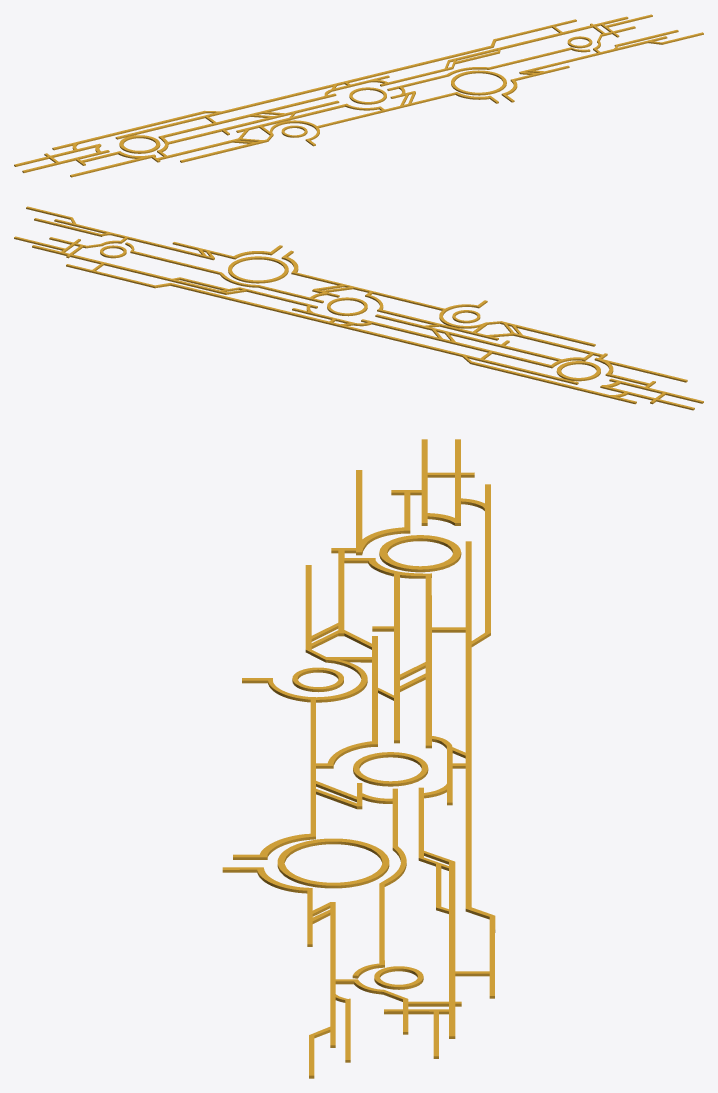
Rendered from DekorBigAlll5.fbx.
The picture shows the model from 3 angles, top to bottom: view 1: azimuth 30°, elevation 25°; view 2: azimuth 150°, elevation 25°; view 3: azimuth 270°, elevation 25°; orthographic projection. The views are drawn at different scales.
Parts seen in each view (by area): view 1: Dekor1, Dekor2, Dekor4, Dekor5, Dekor3; view 2: Dekor1, Dekor2, Dekor4, Dekor5, Dekor3; view 3: Dekor2, Dekor1, Dekor4, Dekor3, Dekor5.
Part boxes in pixels (box(x1,y1,x2,y2)): Dekor1: box(14, 114, 224, 177); Dekor2: box(171, 90, 340, 152); Dekor4: box(402, 31, 569, 103); Dekor5: box(523, 14, 703, 65); Dekor3: box(305, 67, 442, 122); Dekor1: box(484, 333, 703, 410); Dekor2: box(370, 300, 558, 370); Dekor4: box(117, 242, 309, 309); Dekor5: box(14, 206, 176, 278); Dekor3: box(266, 276, 420, 334); Dekor2: box(242, 589, 490, 727); Dekor1: box(305, 439, 490, 620); Dekor4: box(222, 810, 495, 949); Dekor3: box(310, 709, 471, 820); Dekor5: box(309, 934, 494, 1078).
Bounding box in the file's own units: 1633 × 3.68 × 295.
